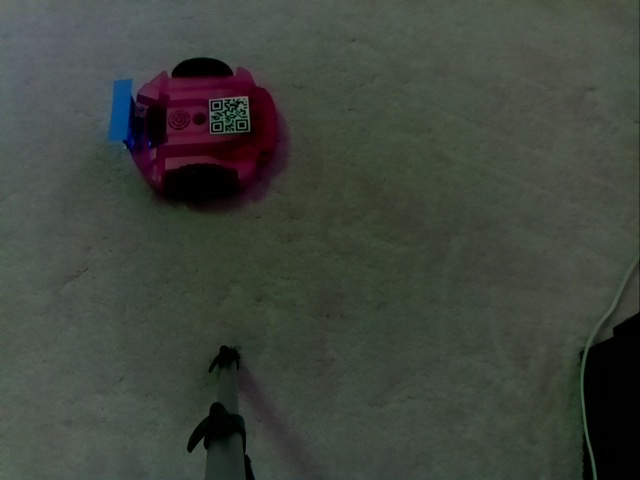chassis: (103, 56, 283, 203)
qr: (207, 96, 253, 137)
